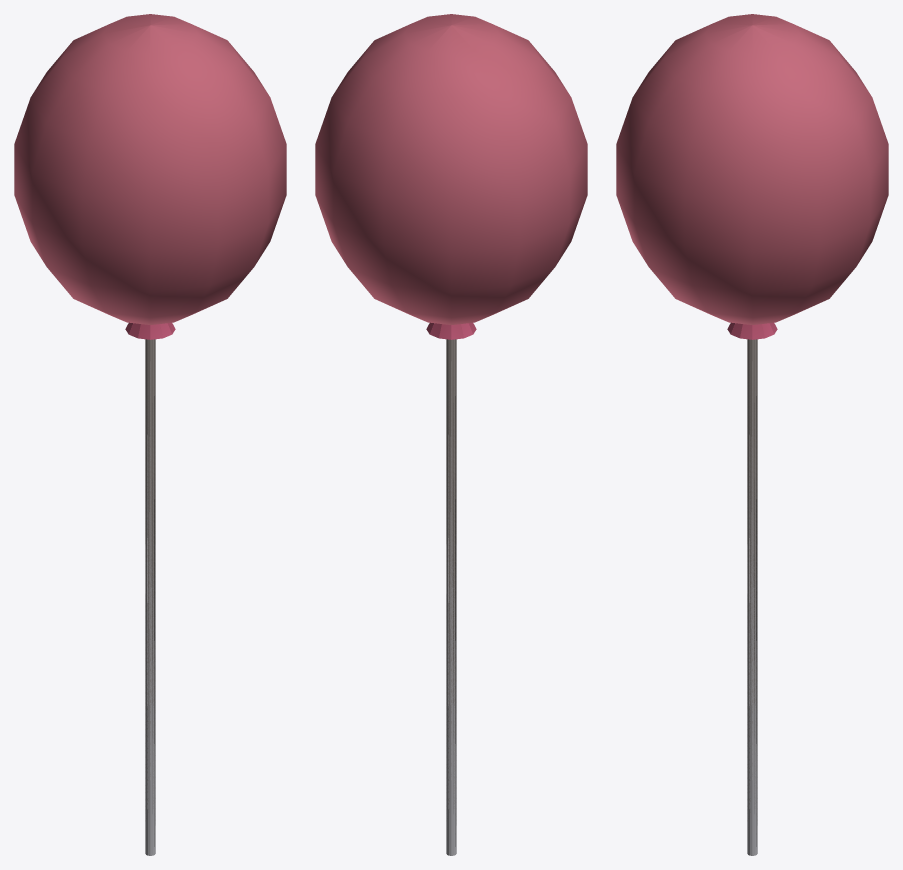
Rendered from girl-flower-balloon-balloon.glb.
The picture shows the model from 3 angles, left to right: view 1: azimuth 30°, elevation 25°; view 2: azimuth 150°, elevation 25°; view 3: azimuth 270°, elevation 25°; orthographic projection.
Visible parts, largest first — view 1: player_girl-flower-balloon:balloon; view 2: player_girl-flower-balloon:balloon; view 3: player_girl-flower-balloon:balloon.
Boxes of the visible parts, <box> form: player_girl-flower-balloon:balloon: <box>14,14,286,855</box>; player_girl-flower-balloon:balloon: <box>315,14,587,855</box>; player_girl-flower-balloon:balloon: <box>616,14,888,855</box>.
Bounding box in the file's own units: 0.2167 × 0.7265 × 0.2167.
